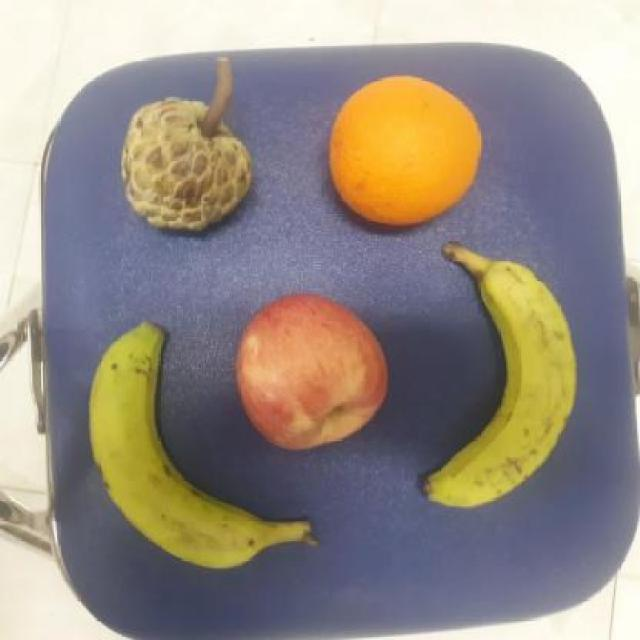apple: (233, 289, 393, 452)
banana: (88, 319, 315, 570), (422, 243, 581, 512)
oren: (326, 72, 486, 230)
sugar apple: (120, 95, 255, 238)
